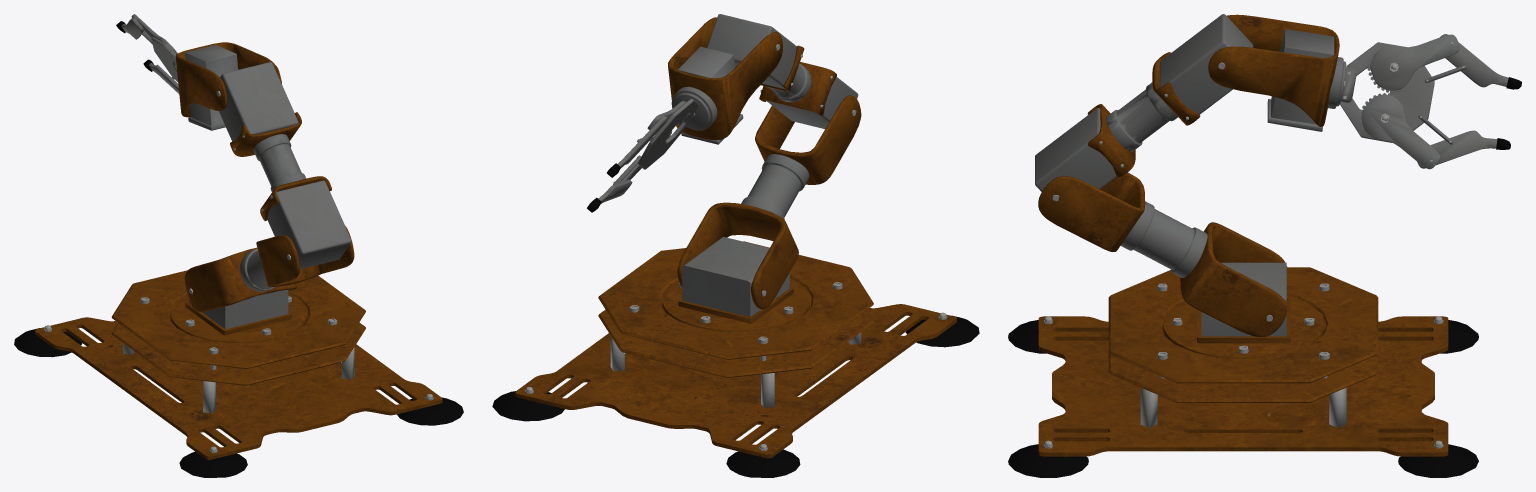
File: robot-arm.glb
3 views of the same model, side by side, from view 1: azimuth 30°, elevation 25°; view 2: azimuth 150°, elevation 25°; view 3: azimuth 270°, elevation 25° (orthographic). The views are drawn at different scales.
Parts seen in each view (by area): view 1: Object_4, Object_26, Object_20, Object_8; view 2: Object_4, Object_26, Object_20, Object_8; view 3: Object_4, Object_26, Object_20, Object_8.
Part boxes in pixels (bbox=[...]): Object_4: bbox=[35, 42, 442, 459]; Object_26: bbox=[121, 14, 351, 329]; Object_20: bbox=[14, 21, 463, 477]; Object_8: bbox=[44, 91, 433, 453]; Object_4: bbox=[515, 17, 956, 458]; Object_26: bbox=[598, 14, 858, 316]; Object_20: bbox=[492, 163, 979, 477]; Object_8: bbox=[525, 44, 947, 450]; Object_4: bbox=[1038, 14, 1448, 456]; Object_26: bbox=[1035, 14, 1508, 336]; Object_20: bbox=[1008, 77, 1521, 477]; Object_8: bbox=[1043, 42, 1464, 448].
Size of the model in its own units: 0.9388 by 1.03 by 1.29.
Materials: 4 (3 with a texture image).
